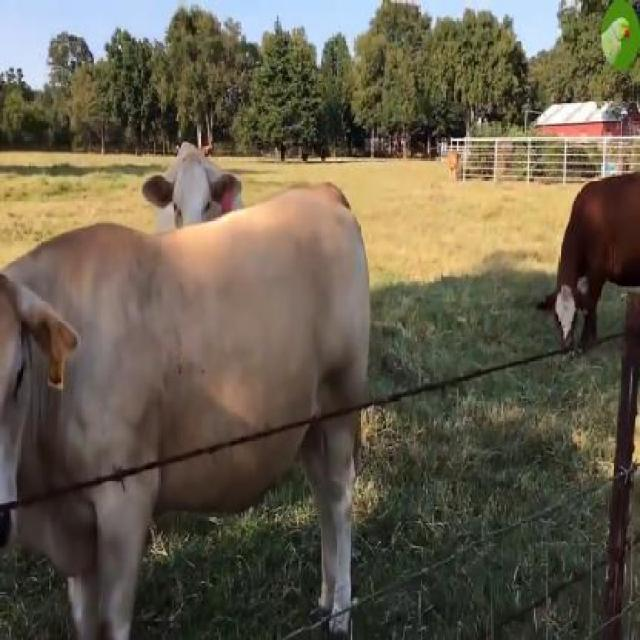Cow: (0, 177, 369, 638)
